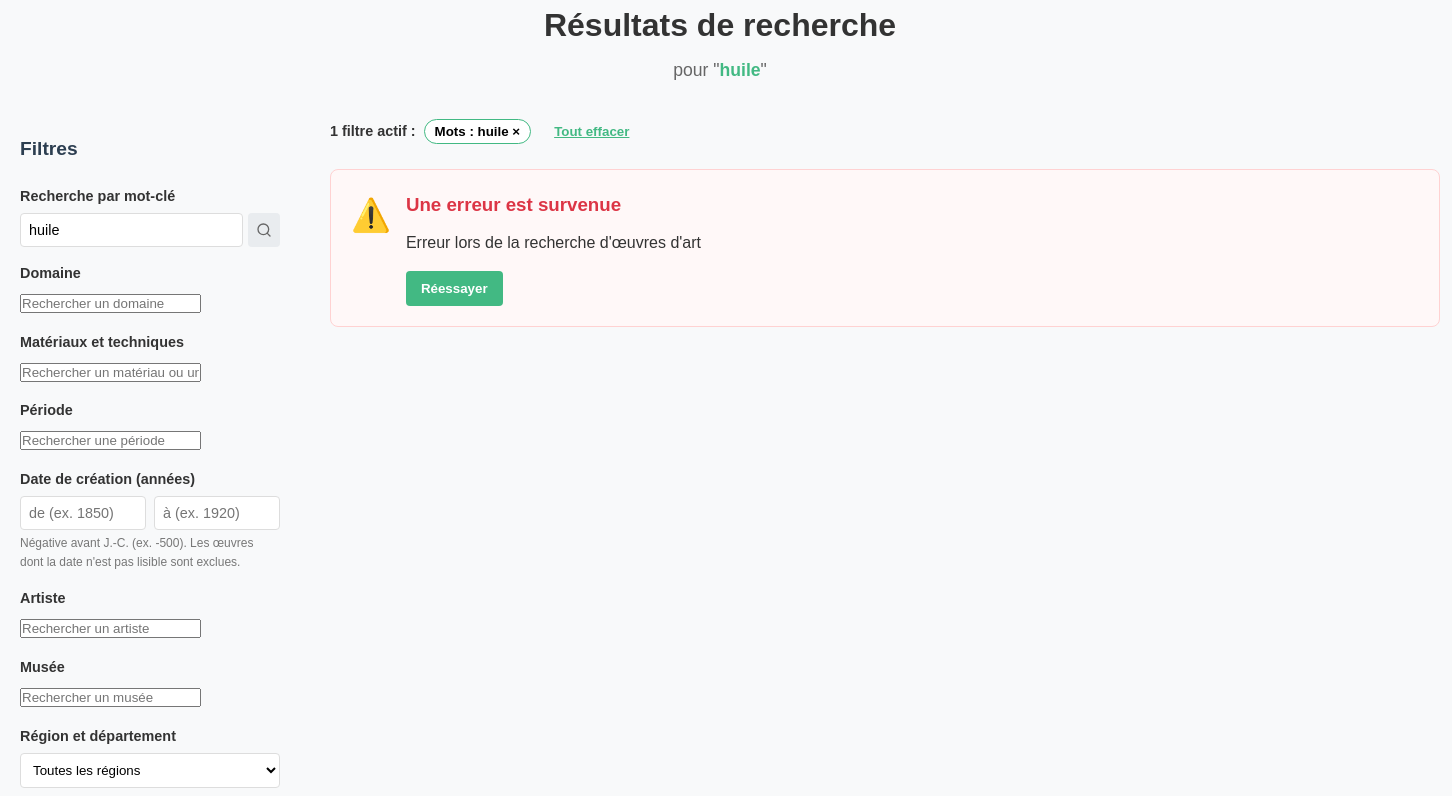
Test: SearchView : filtres, pagination et actions › propose « Réessayer » après une panne, qui relance la recherche
Click the button "Réessayer" at (454, 288), box [406,271,503,306]
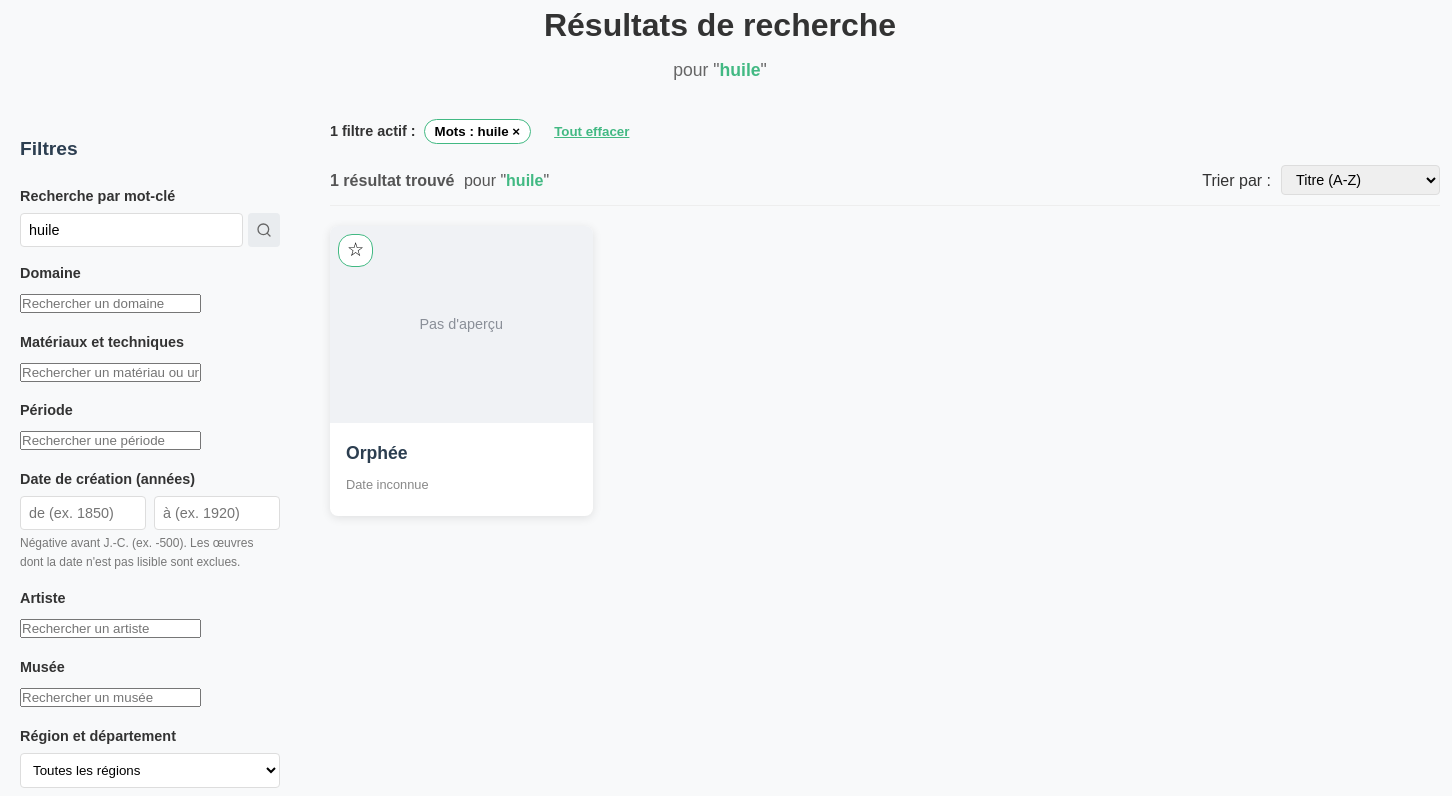
Expected: the element with class "results-content" is shown, [330,165,1440,516]
